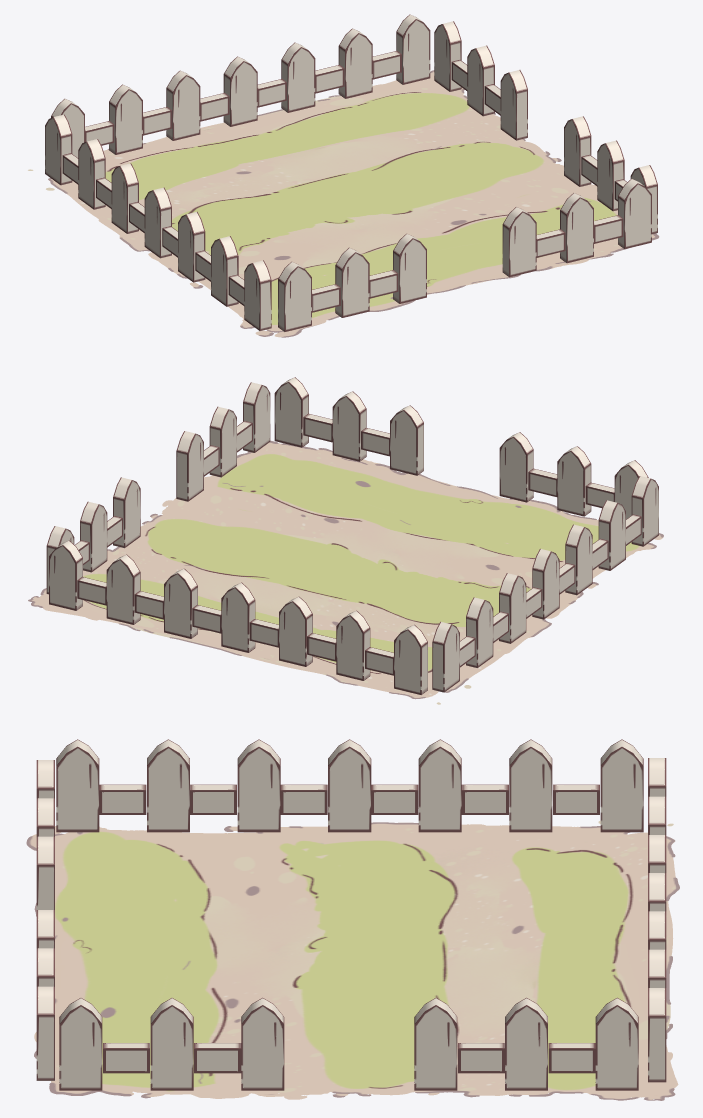
File: Mesh_Home_BH_Farm_SM.fbx
The picture shows the model from 3 angles, top to bottom: view 1: azimuth 30°, elevation 25°; view 2: azimuth 150°, elevation 25°; view 3: azimuth 270°, elevation 25°; orthographic projection. The views are drawn at different scales.
Visible parts, largest first — view 1: Mesh_Home_BH_Farm_P, Mesh_Home_BH_Farm; view 2: Mesh_Home_BH_Farm_P, Mesh_Home_BH_Farm; view 3: Mesh_Home_BH_Farm_P, Mesh_Home_BH_Farm.
Part boxes in pixels (left/top/right/bottom): Mesh_Home_BH_Farm_P: left=28, top=70, right=659, bottom=337; Mesh_Home_BH_Farm: left=45, top=14, right=657, bottom=331; Mesh_Home_BH_Farm_P: left=28, top=440, right=663, bottom=704; Mesh_Home_BH_Farm: left=46, top=377, right=658, bottom=694; Mesh_Home_BH_Farm_P: left=26, top=820, right=679, bottom=1100; Mesh_Home_BH_Farm: left=36, top=739, right=666, bottom=1090.
Size of the model in its own units: 300 by 43.5 by 300.
